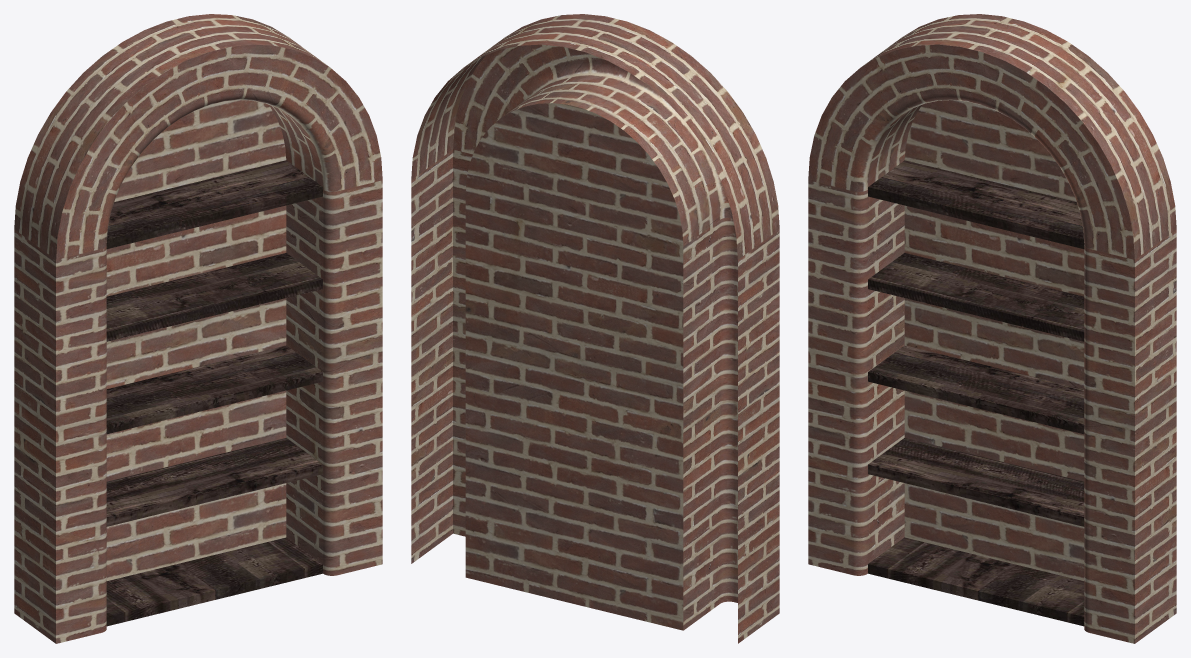
File: Bookshelf.FBX
The picture shows the model from 3 angles, left to right: view 1: azimuth 30°, elevation 25°; view 2: azimuth 150°, elevation 25°; view 3: azimuth 330°, elevation 25°; orthographic projection.
Parts seen in each view (by area): view 1: Bookshelf; view 2: Bookshelf; view 3: Bookshelf.
Boxes of the visible parts, x1,y1,x2,y2 form: Bookshelf: (14, 14, 382, 643); Bookshelf: (411, 14, 779, 643); Bookshelf: (808, 14, 1176, 643).
Size of the model in its own units: 231 by 374 by 51.2.
